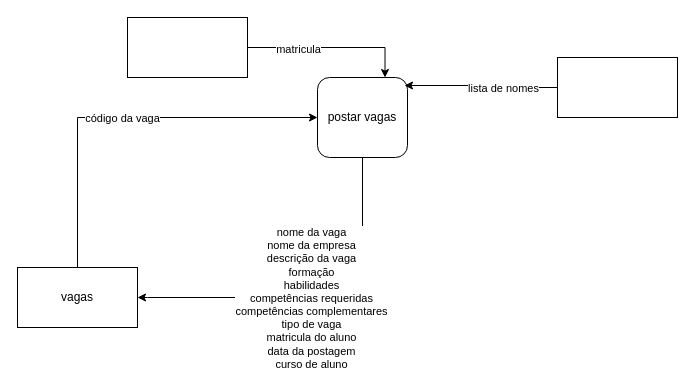
The diagram is 695 pixels wide and 388 high, and some of its shapes have lost their labels. The shapes that lost their labels are listed below. From the top down, each one's box as (x1, y1, x2, y2) in pixels, then its label:
(126, 16, 248, 78): usuário
(556, 56, 678, 118): curso de aluno
